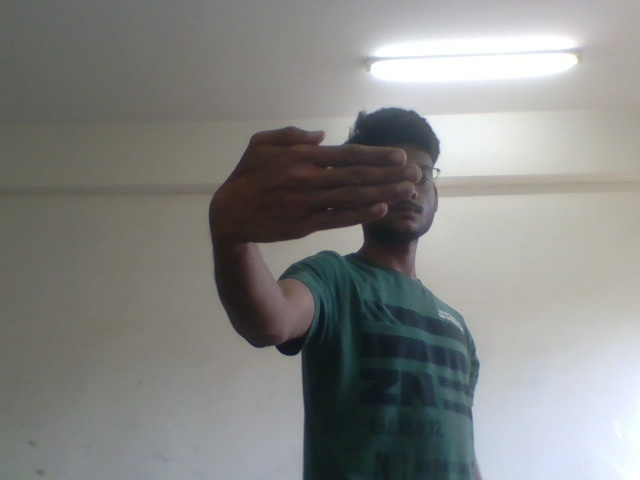Left: (204, 116, 428, 261)
